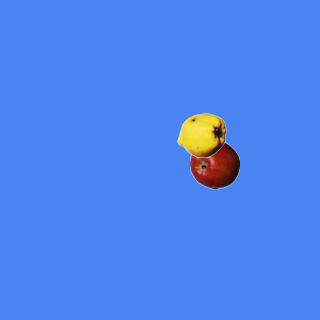Apple Braeburn: (189, 139, 239, 189)
Quince: (176, 110, 226, 160)
